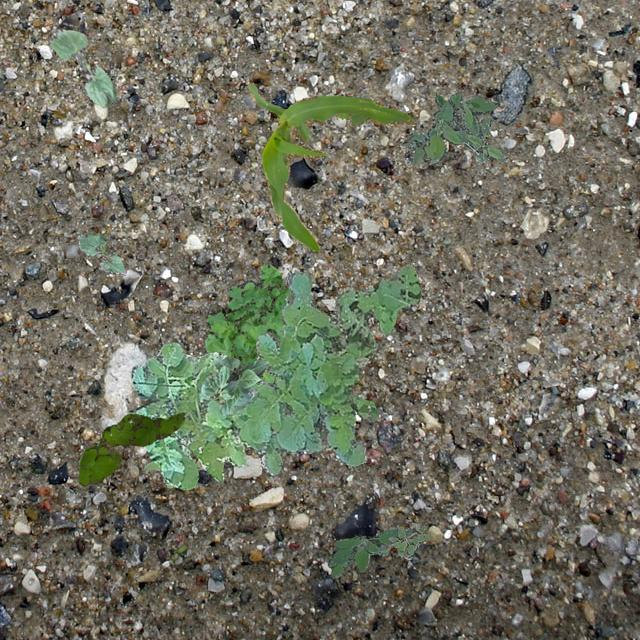crop: (246, 82, 414, 250), (48, 28, 116, 106), (200, 354, 268, 416), (76, 232, 125, 274)
weed: (130, 262, 420, 490), (203, 262, 290, 383), (78, 412, 184, 486), (400, 92, 506, 164), (326, 526, 411, 578), (142, 448, 192, 486), (386, 524, 429, 558)
